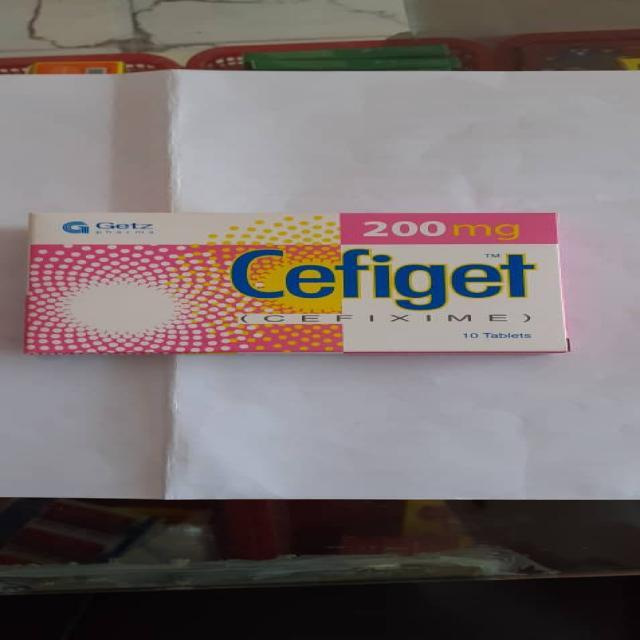drug-name: (226, 248, 536, 309)
